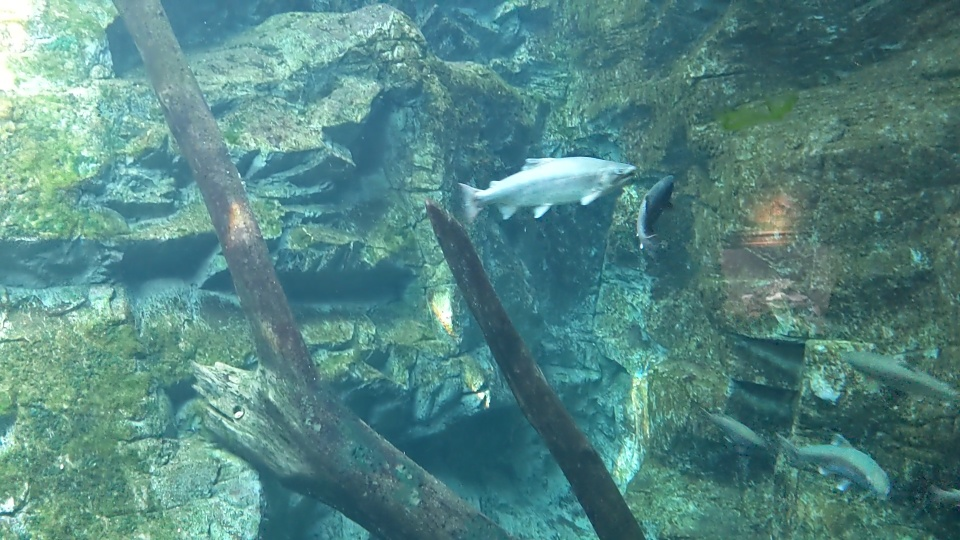Fish: (461, 150, 632, 224), (783, 421, 890, 506), (841, 345, 960, 409), (625, 174, 674, 259), (708, 414, 766, 454), (929, 480, 960, 510)
